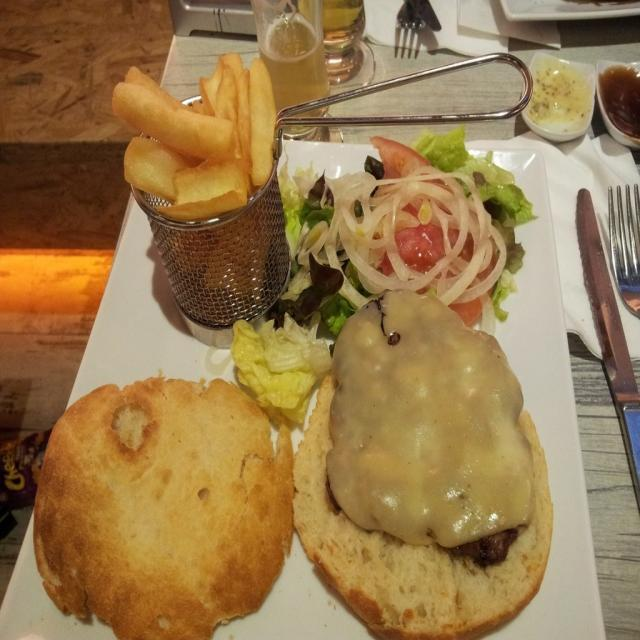French fries: (104, 49, 294, 210)
